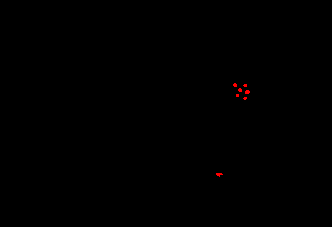Target: (216, 173, 223, 177), (245, 90, 250, 94), (233, 83, 237, 87), (238, 88, 242, 92), (243, 84, 247, 87), (243, 97, 247, 100), (236, 94, 239, 97)
